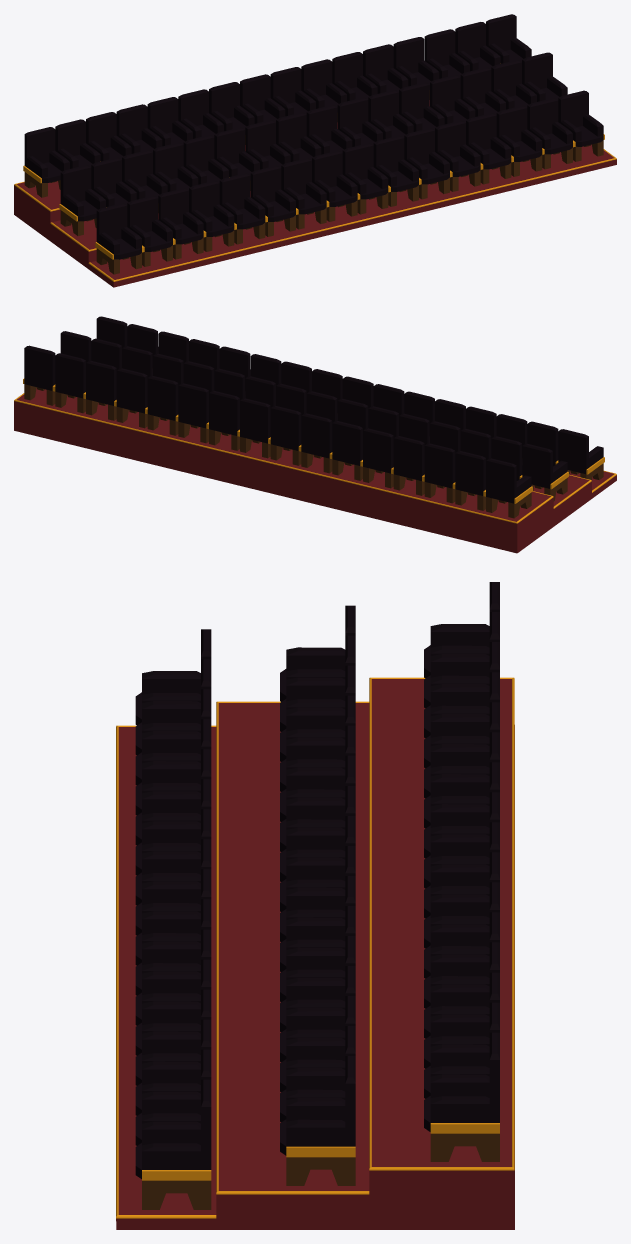
File: Seating.glb
The picture shows the model from 3 angles, top to bottom: view 1: azimuth 30°, elevation 25°; view 2: azimuth 150°, elevation 25°; view 3: azimuth 270°, elevation 25°; orthographic projection. The views are drawn at different scales.
Parts seen in each view (by area): view 1: Cube, Plane; view 2: Cube, Plane; view 3: Cube, Plane.
Boxes of the visible parts, x1,y1,x2,y2 form: Cube: (23,14,604,274); Plane: (14,100,616,287); Cube: (23,316,604,518); Plane: (14,388,616,553); Cube: (135,582,499,1209); Plane: (116,677,514,1229).
Size of the model in its own units: 30.76 by 4.86 by 10.56.
